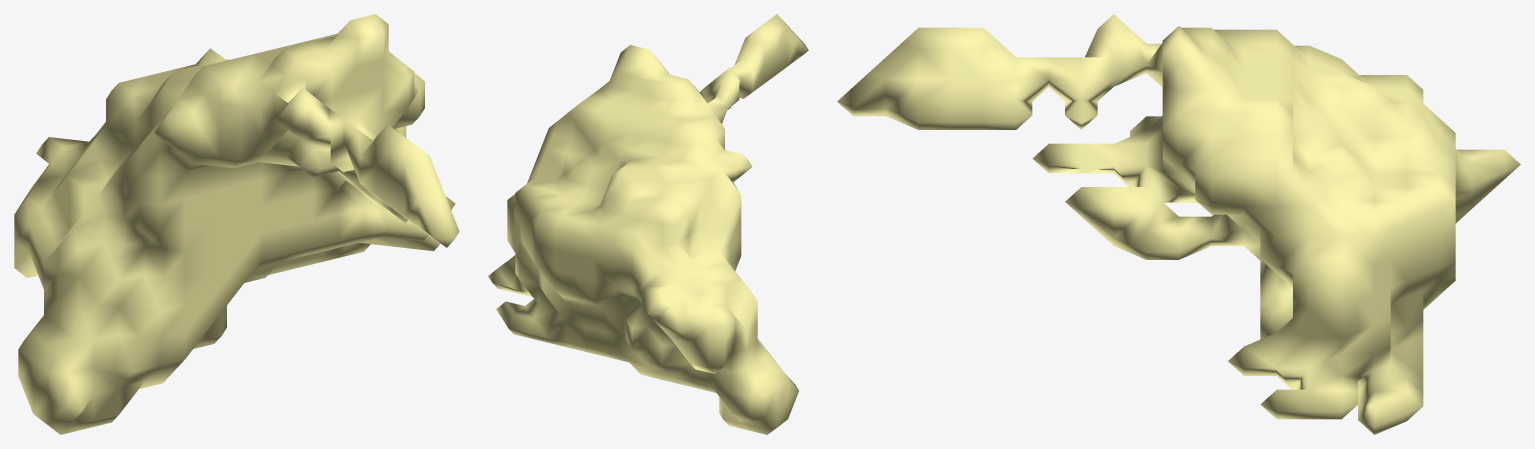
File: spl-356.glb
3 renders of one model, left to right at view 1: azimuth 30°, elevation 25°; view 2: azimuth 150°, elevation 25°; view 3: azimuth 270°, elevation 25°, orthographic. The views are drawn at different scales.
Visible parts, largest first — view 1: spl-356; view 2: spl-356; view 3: spl-356.
Boxes of the visible parts, box(x1,y1,x2,y2) form: spl-356: box(14, 14, 459, 434); spl-356: box(488, 14, 808, 434); spl-356: box(837, 14, 1520, 434).
Bounding box in the file's own units: 15 × 15 × 21.
